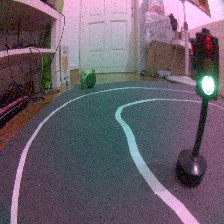green: (174, 24, 220, 191)
